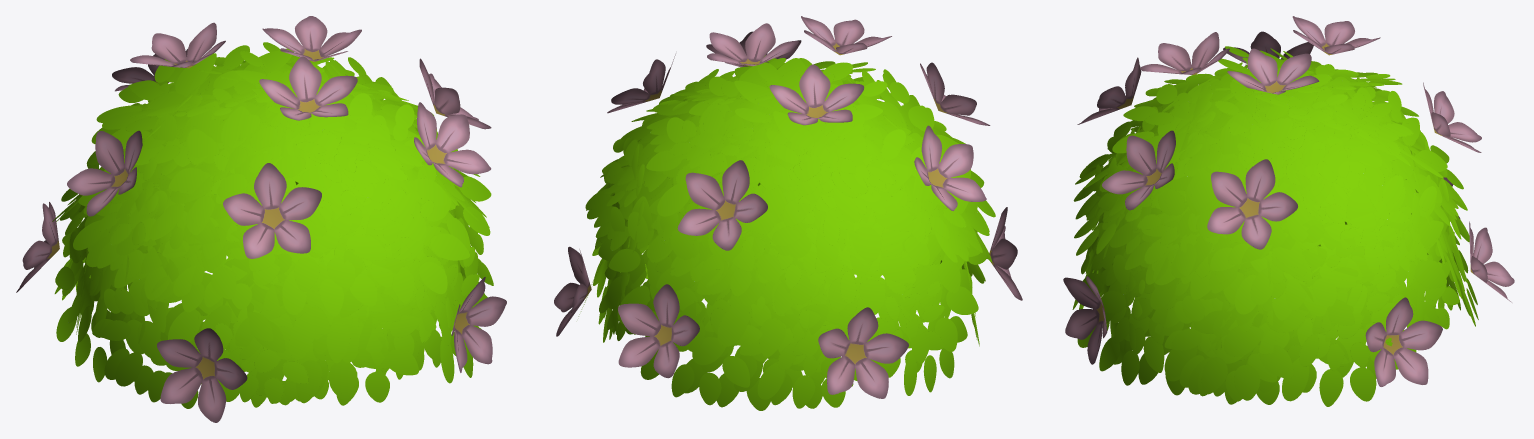
Rendered from Bush_Flowers2.glb.
The picture shows the model from 3 angles, left to right: view 1: azimuth 30°, elevation 25°; view 2: azimuth 150°, elevation 25°; view 3: azimuth 270°, elevation 25°; orthographic projection. The views are drawn at different scales.
Visible parts, largest first — view 1: Bush_Flowers.1; view 2: Bush_Flowers.1; view 3: Bush_Flowers.1.
Part boxes in pixels (box(x1,y1,x2,y2)): Bush_Flowers.1: box(16, 16, 506, 422); Bush_Flowers.1: box(554, 16, 1022, 410); Bush_Flowers.1: box(1063, 16, 1514, 406).
Bounding box in the file's own units: 109 × 75.85 × 111.
2 materials, 2 textured.
